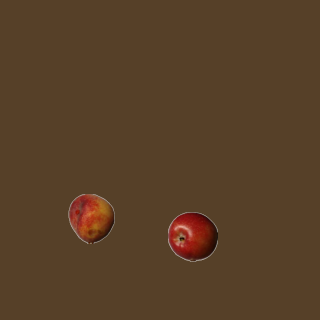Apple Braeburn: (167, 211, 217, 261)
Peach: (66, 193, 116, 243)
